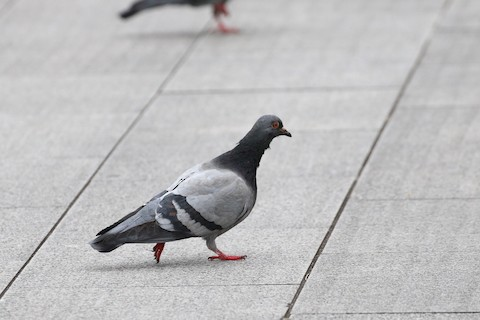pigeon: (89, 112, 293, 264)
